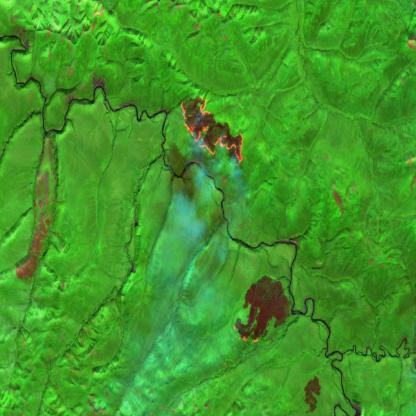fire: (179, 94, 246, 166)
